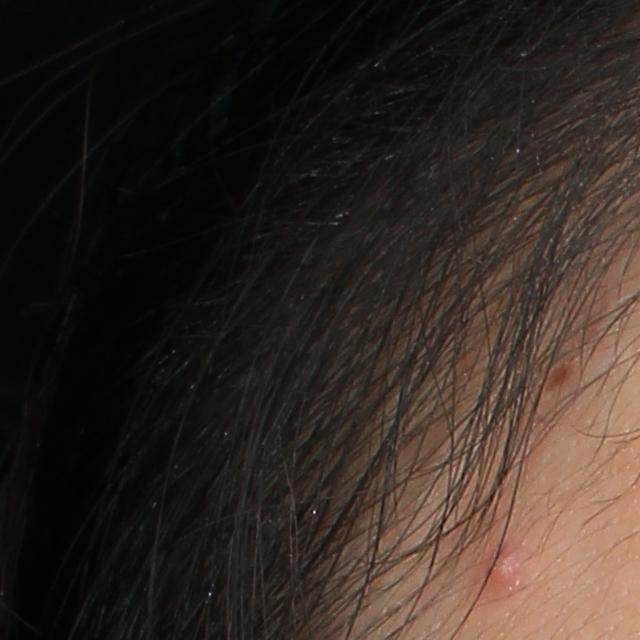papule: (478, 538, 527, 593)
